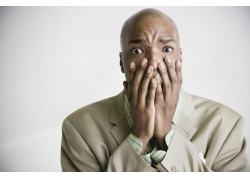face: (126, 18, 180, 95)
